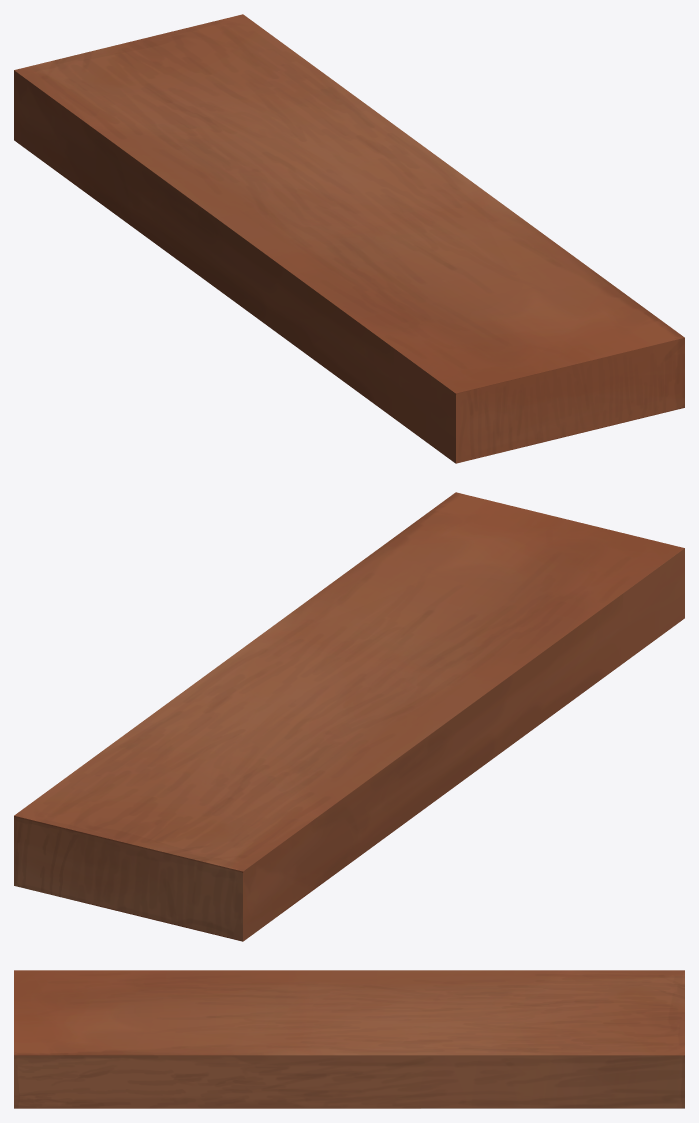
File: plank.glb
The picture shows the model from 3 angles, top to bottom: view 1: azimuth 30°, elevation 25°; view 2: azimuth 150°, elevation 25°; view 3: azimuth 270°, elevation 25°; orthographic projection. The views are drawn at different scales.
Parts seen in each view (by area): view 1: LowPoly; view 2: LowPoly; view 3: LowPoly.
Part boxes in pixels (box(x1,y1,x2,y2)): LowPoly: box(14, 14, 684, 463); LowPoly: box(14, 492, 684, 941); LowPoly: box(14, 970, 684, 1108).
Size of the model in its own units: 1.69 by 0.4938 by 5.64.
1 material, 1 textured.
